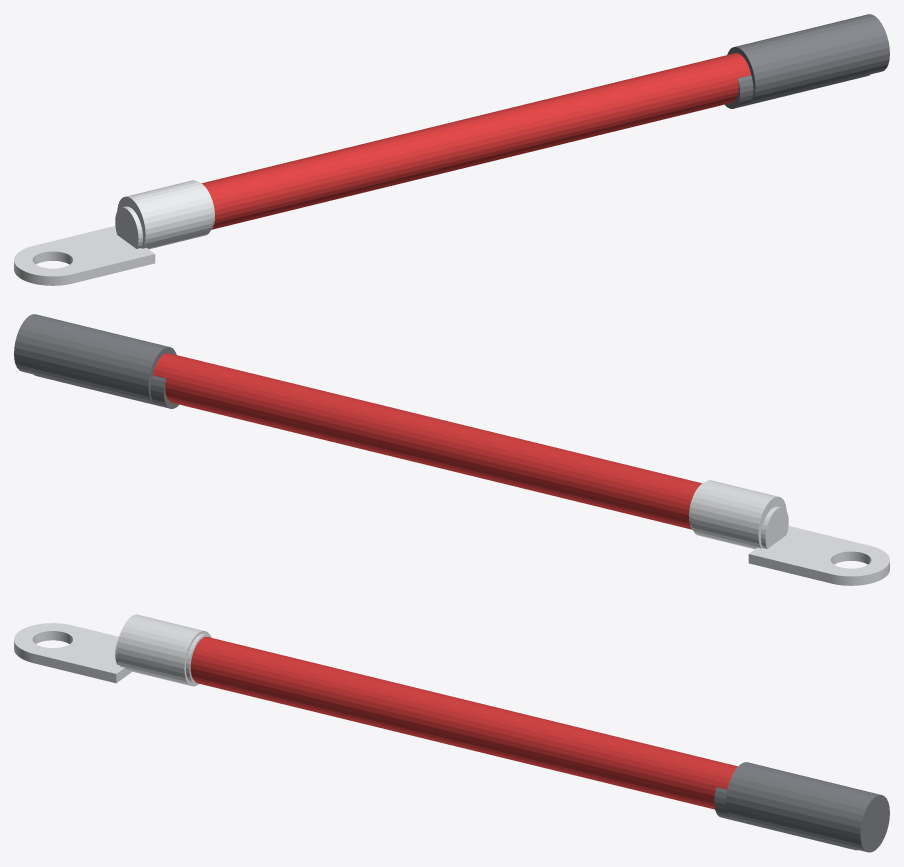
The model's file is lug-38-pos.glb.
3 views of the same model, one above another, from view 1: azimuth 30°, elevation 25°; view 2: azimuth 150°, elevation 25°; view 3: azimuth 330°, elevation 25° (orthographic).
Visible parts, largest first — view 1: cable_2awg, lug_2awg, joint_2awg, cable_4awg, lug_4awg, joint_4awg; view 2: cable_2awg, lug_2awg, joint_2awg, cable_4awg, lug_4awg, joint_4awg; view 3: cable_2awg, joint_2awg, lug_2awg, cable_4awg, joint_4awg.
Part boxes in pixels (x1=…): cable_2awg: x1=202, y1=53, x2=751, y2=227; lug_2awg: x1=14, y1=180, x2=214, y2=285; joint_2awg: x1=727, y1=14, x2=889, y2=102; cable_4awg: x1=212, y1=100, x2=734, y2=229; lug_4awg: x1=33, y1=206, x2=142, y2=263; joint_4awg: x1=725, y1=73, x2=871, y2=108; cable_2awg: x1=152, y1=353, x2=701, y2=527; lug_2awg: x1=689, y1=480, x2=889, y2=585; joint_2awg: x1=14, y1=314, x2=176, y2=402; cable_4awg: x1=169, y1=400, x2=691, y2=529; lug_4awg: x1=761, y1=506, x2=870, y2=564; joint_4awg: x1=32, y1=373, x2=178, y2=408; cable_2awg: x1=190, y1=637, x2=737, y2=807; joint_2awg: x1=726, y1=762, x2=889, y2=852; lug_2awg: x1=14, y1=614, x2=211, y2=686; cable_4awg: x1=195, y1=681, x2=714, y2=809; joint_4awg: x1=714, y1=787, x2=858, y2=850.
Size of the model in its own units: 0.2423 by 0.0149 by 0.0191.
